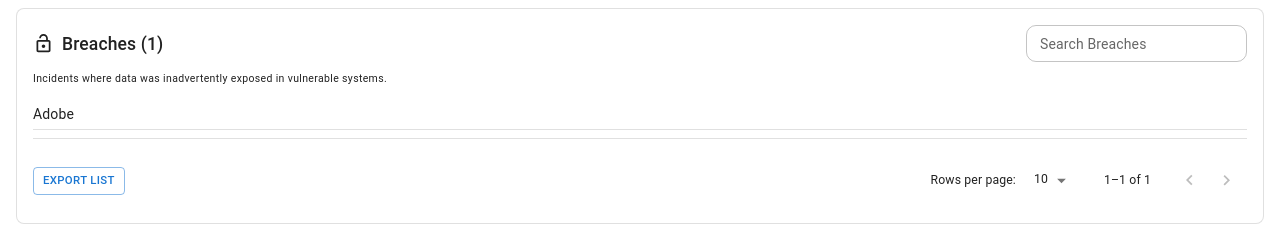
Test case: HaveibeenpwndDetails › shows a no-matching message when the search filters out everything
In the field labelled "Search Breaches": [1136, 44] box [1026, 25, 1247, 62], type "zzz-no-match"
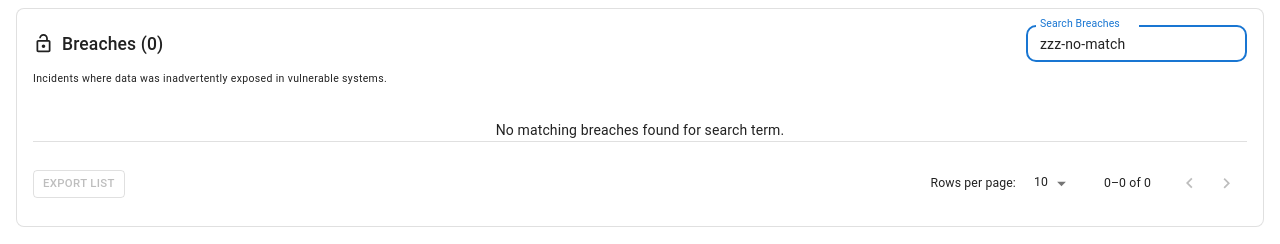
expect the text "No matching breaches found for search term." is shown: met, box [496, 122, 784, 138]
